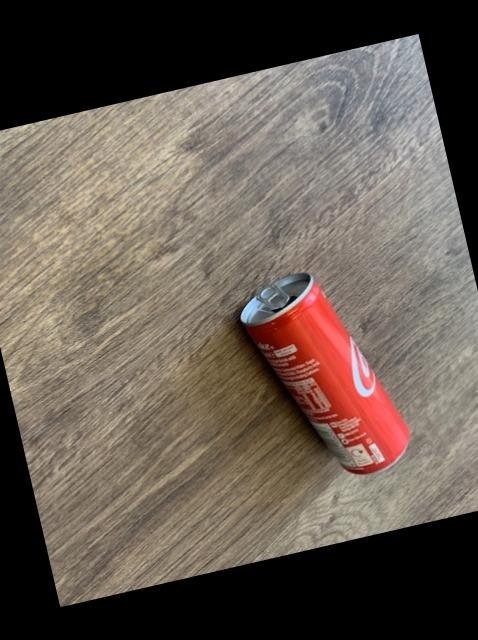metal: (238, 274, 406, 475)
